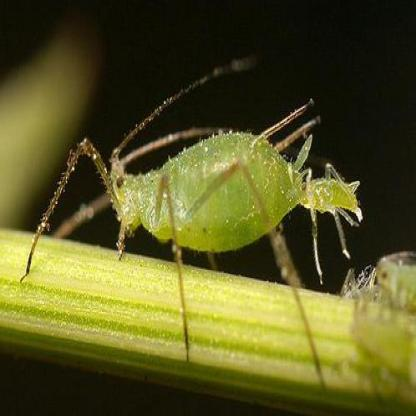aphid: (38, 73, 314, 355), (296, 143, 374, 269)
